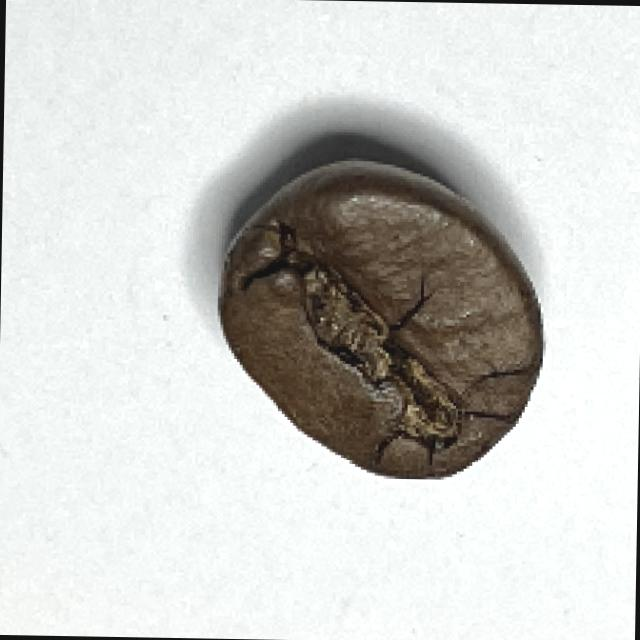bean: (215, 159, 552, 486)
